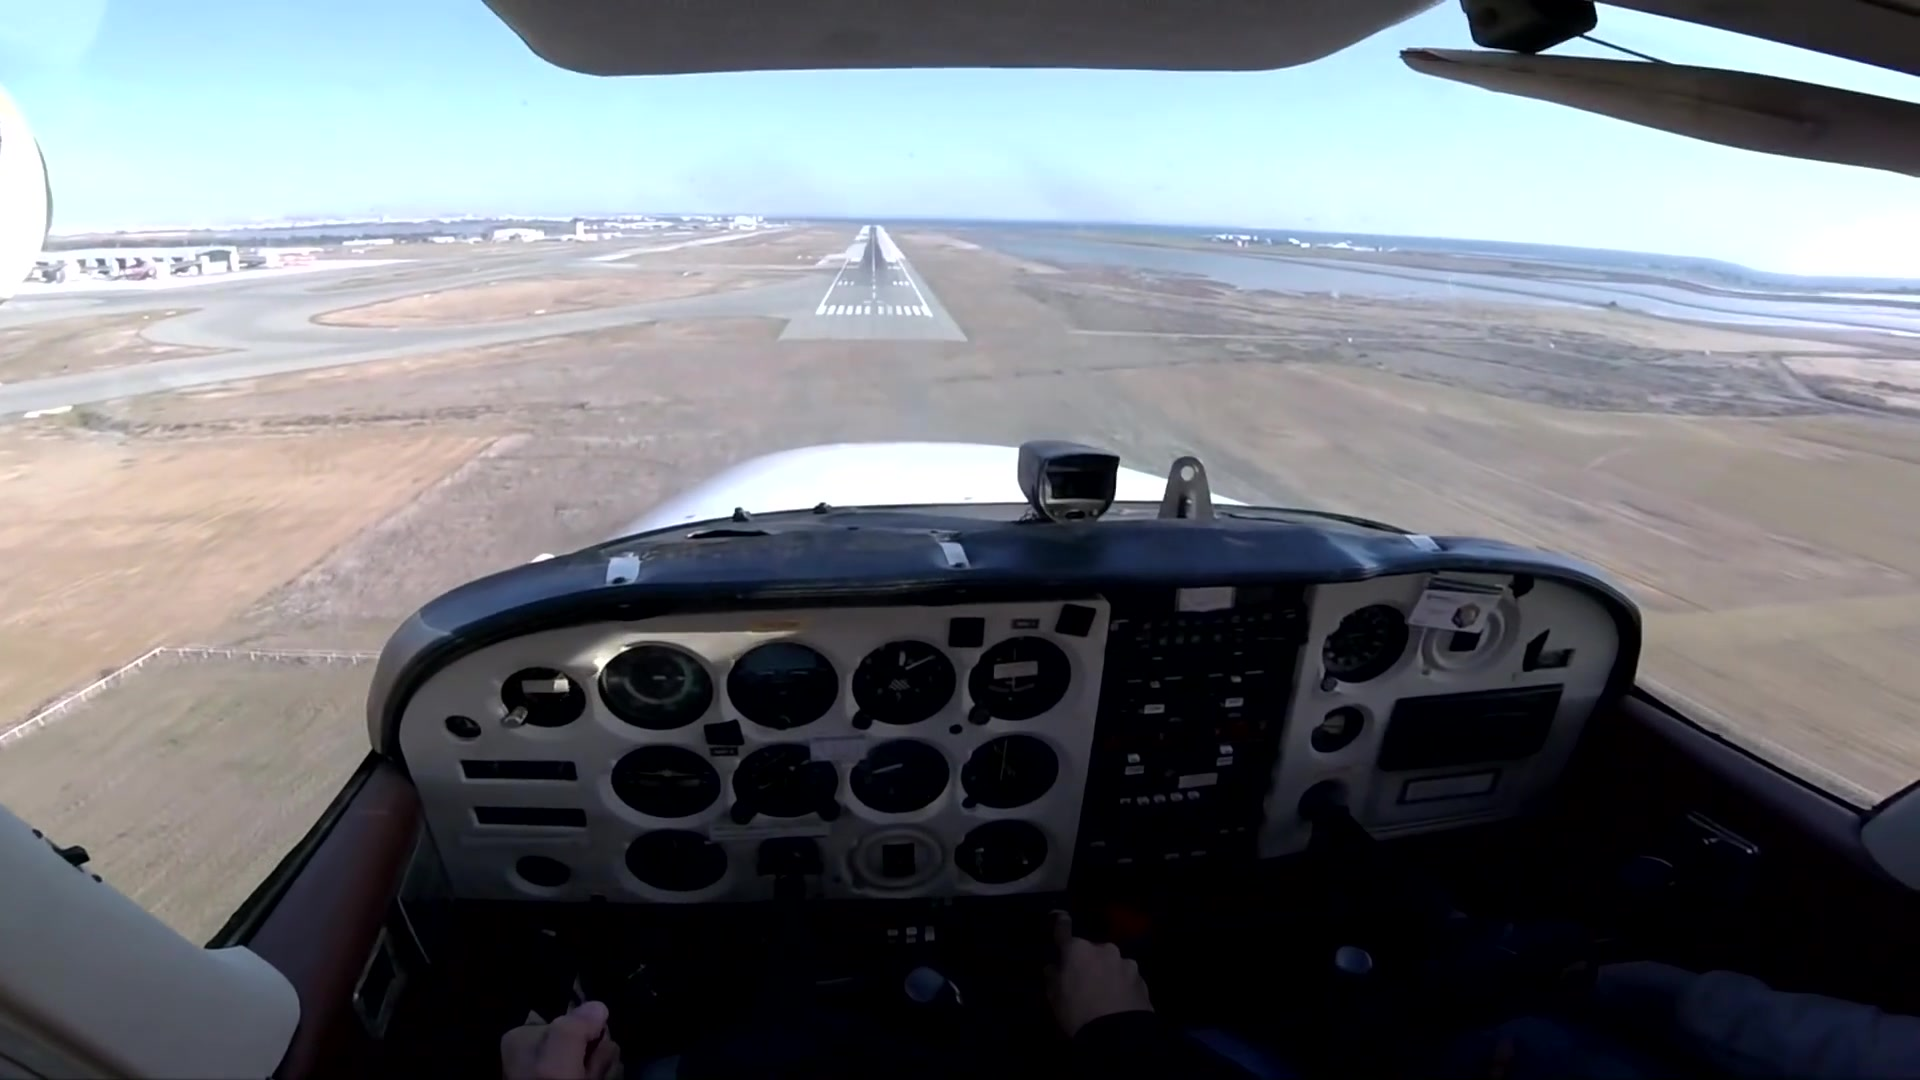entrance: (814, 302, 934, 318)
runway: (789, 223, 963, 339)
